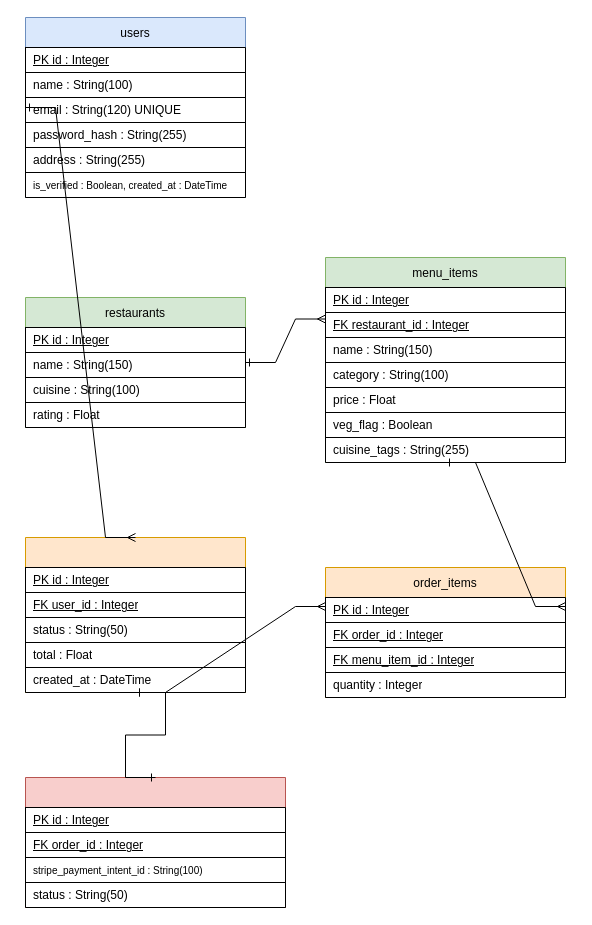
Image size: 592x925. Some labels were removed from this diagram. The box of each missing label's shape, as (x1, y1, x2, y2) in pixels:
orders: (24, 536, 246, 692)
payments: (24, 776, 286, 908)
